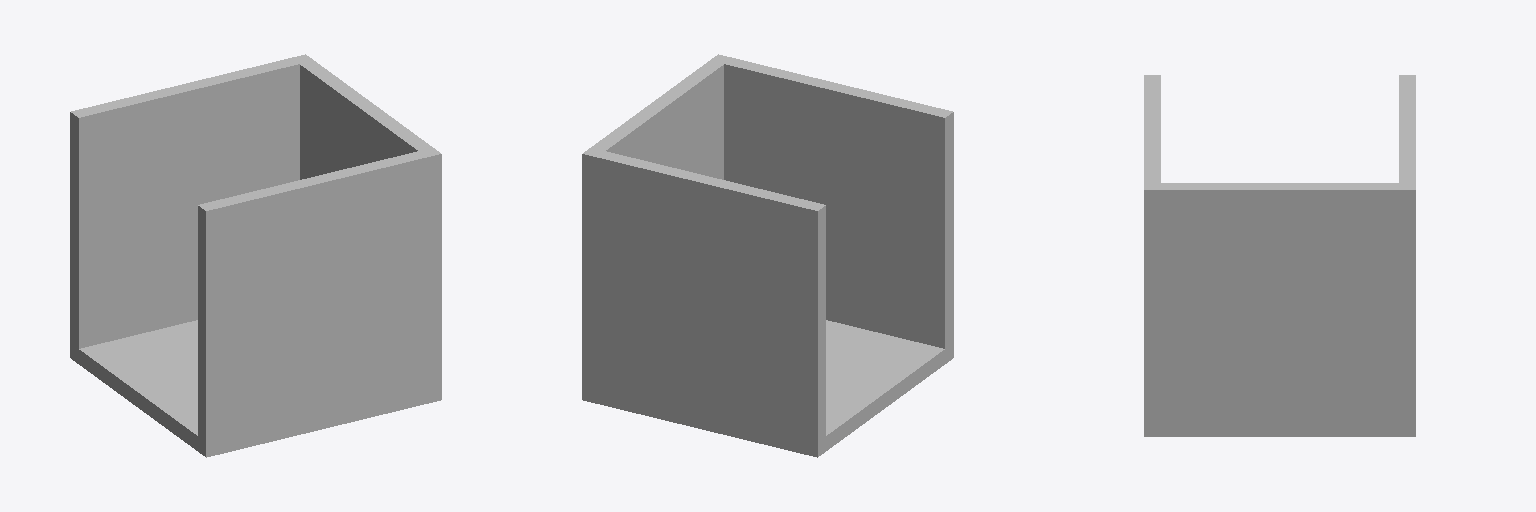
File: graveboxsectionfoot.obj
3 views of the same model, side by side, from view 1: azimuth 30°, elevation 25°; view 2: azimuth 150°, elevation 25°; view 3: azimuth 270°, elevation 25° (orthographic).
Parts seen in each view (by area): view 1: Group1; view 2: Group1; view 3: Group1.
Part boxes in pixels (bbox=[...]): Group1: bbox=[70, 54, 441, 457]; Group1: bbox=[582, 54, 953, 457]; Group1: bbox=[1144, 75, 1415, 436].
Bounding box in the file's own units: 1 × 1 × 1.